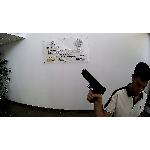Pistol: (74, 64, 108, 106)
